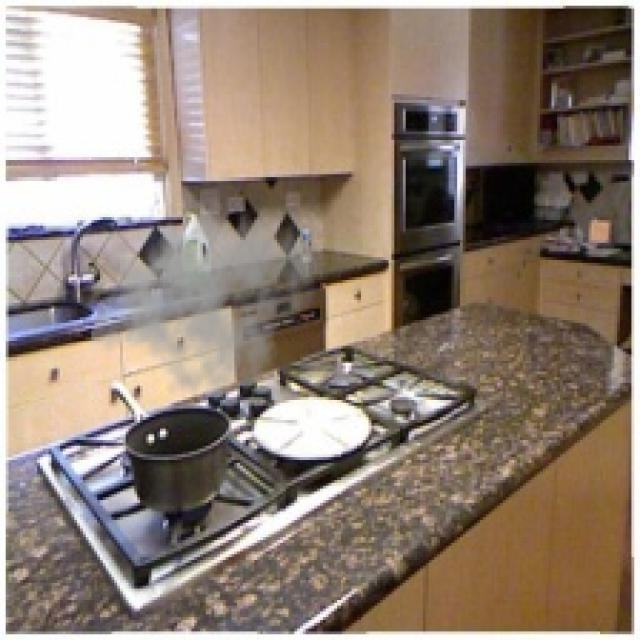Smoke: (88, 188, 320, 406)
